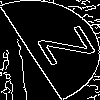Z: (25, 25, 97, 72)
